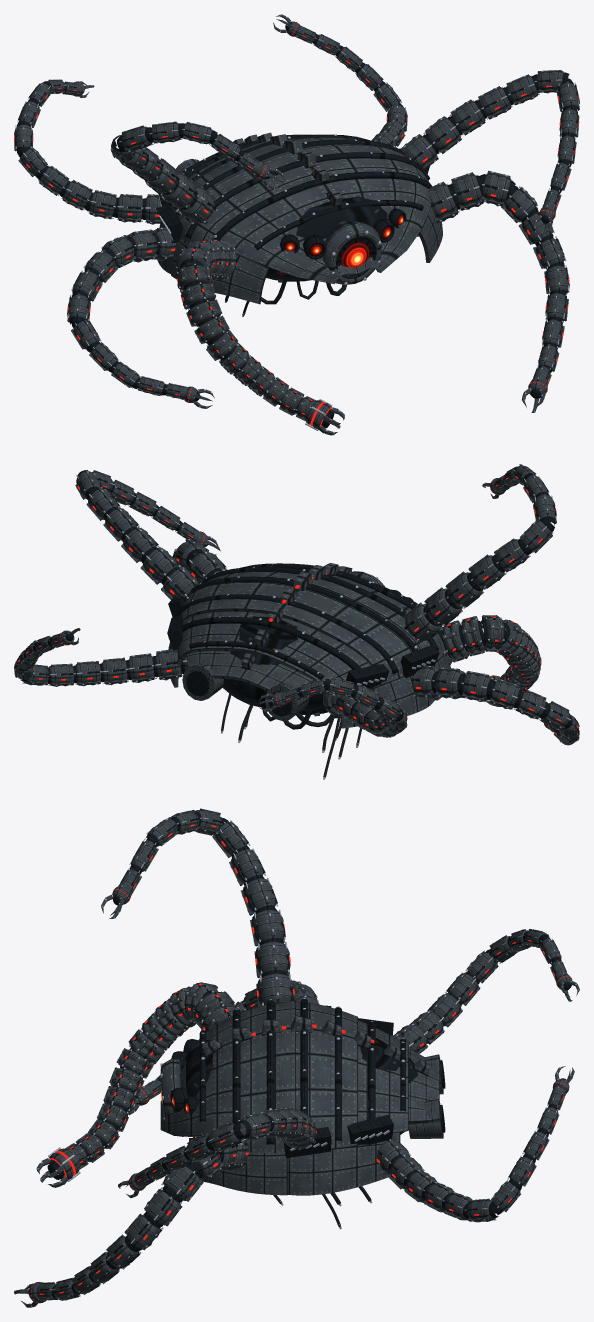
The model's file is sentinel.glb.
3 views of the same model, one above another, from view 1: azimuth 30°, elevation 25°; view 2: azimuth 150°, elevation 25°; view 3: azimuth 270°, elevation 25° (orthographic). The views are drawn at different scales.
Parts seen in each view (by area): view 1: CarapaceArmorPlates, CarapaceChassis, BgTentacle_1_Seg_02, BgTentacle_1_Seg_03, BgTentacle_1_Seg_01, BgTentacle_3_Seg_02, BgTentacle_1_Seg_04, PaddleClaw, BgTentacle_0_Seg_01, BgTentacle_3_Seg_01, BgTentacle_3_Seg_03, BgTentacle_3_Seg_04 (+35 smaller); view 2: CarapaceArmorPlates, CarapaceChassis, CarapaceUnderbellyCables, BgTentacle_0_Seg_01, BgTentacle_0_Seg_03, BgTentacle_3_Seg_02, BgTentacle_0_Seg_02, BgTentacle_2_Seg_03, BgTentacle_3_Seg_01, BgTentacle_3_Seg_03, BgTentacle_0_Seg_04, BgTentacle_2_Seg_02 (+30 smaller); view 3: CarapaceArmorPlates, CarapaceChassis, BgTentacle_0_Seg_01, BgTentacle_0_Seg_02, PaddleClaw, BgTentacle_0_Seg_03, BgTentacle_1_Seg_04, BgTentacle_0_Seg_04, BgTentacle_1_Seg_05, BgTentacle_0_Seg_05, BgTentacle_1_Seg_06, BgTentacle_3_Seg_07 (+17 smaller).
Part boxes in pixels (left/top/right/bottom): CarapaceArmorPlates: left=157, top=132, right=442, bottom=304; CarapaceChassis: left=157, top=134, right=432, bottom=281; BgTentacle_1_Seg_02: left=449, top=172, right=484, bottom=210; BgTentacle_1_Seg_03: left=479, top=170, right=515, bottom=206; BgTentacle_1_Seg_01: left=428, top=181, right=460, bottom=222; BgTentacle_3_Seg_02: left=423, top=116, right=462, bottom=153; BgTentacle_1_Seg_04: left=501, top=186, right=538, bottom=222; PaddleClaw: left=305, top=399, right=344, bottom=435; BgTentacle_0_Seg_01: left=178, top=184, right=217, bottom=223; BgTentacle_3_Seg_01: left=400, top=134, right=438, bottom=169; BgTentacle_3_Seg_03: left=449, top=99, right=486, bottom=135; BgTentacle_3_Seg_04: left=477, top=86, right=513, bottom=119; CarapaceArmorPlates: left=168, top=563, right=450, bottom=728; CarapaceChassis: left=167, top=563, right=443, bottom=716; CarapaceUnderbellyCables: left=221, top=693, right=362, bottom=777; BgTentacle_0_Seg_01: left=403, top=602, right=442, bottom=641; BgTentacle_0_Seg_03: left=445, top=571, right=483, bottom=608; BgTentacle_3_Seg_02: left=140, top=547, right=180, bottom=584; BgTentacle_0_Seg_02: left=424, top=587, right=462, bottom=625; BgTentacle_2_Seg_03: left=460, top=671, right=495, bottom=701; BgTentacle_3_Seg_01: left=161, top=567, right=199, bottom=599; BgTentacle_3_Seg_03: left=121, top=526, right=159, bottom=562; BgTentacle_0_Seg_04: left=468, top=554, right=506, bottom=590; BgTentacle_2_Seg_02: left=432, top=667, right=466, bottom=699; CarapaceArmorPlates: left=160, top=1001, right=443, bottom=1195; CarapaceChassis: left=170, top=998, right=445, bottom=1158; BgTentacle_0_Seg_01: left=256, top=970, right=294, bottom=1006; BgTentacle_0_Seg_02: left=254, top=938, right=290, bottom=978; PaddleClaw: left=36, top=1147, right=80, bottom=1187; BgTentacle_0_Seg_03: left=250, top=907, right=285, bottom=946; BgTentacle_1_Seg_04: left=161, top=1163, right=203, bottom=1202; BgTentacle_0_Seg_04: left=241, top=874, right=278, bottom=915; BgTentacle_1_Seg_05: left=144, top=1187, right=182, bottom=1227; BgTentacle_0_Seg_05: left=229, top=846, right=266, bottom=885; BgTentacle_1_Seg_06: left=124, top=1213, right=163, bottom=1251; BgTentacle_3_Seg_07: left=205, top=1121, right=244, bottom=1151.
Size of the model in its own units: 3.85 by 2.29 by 3.45.
Materials: 7 (4 with a texture image).
